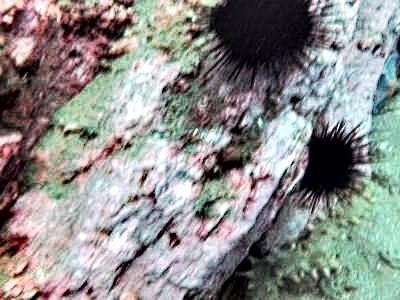urchin: (199, 1, 326, 94), (291, 114, 364, 205)
